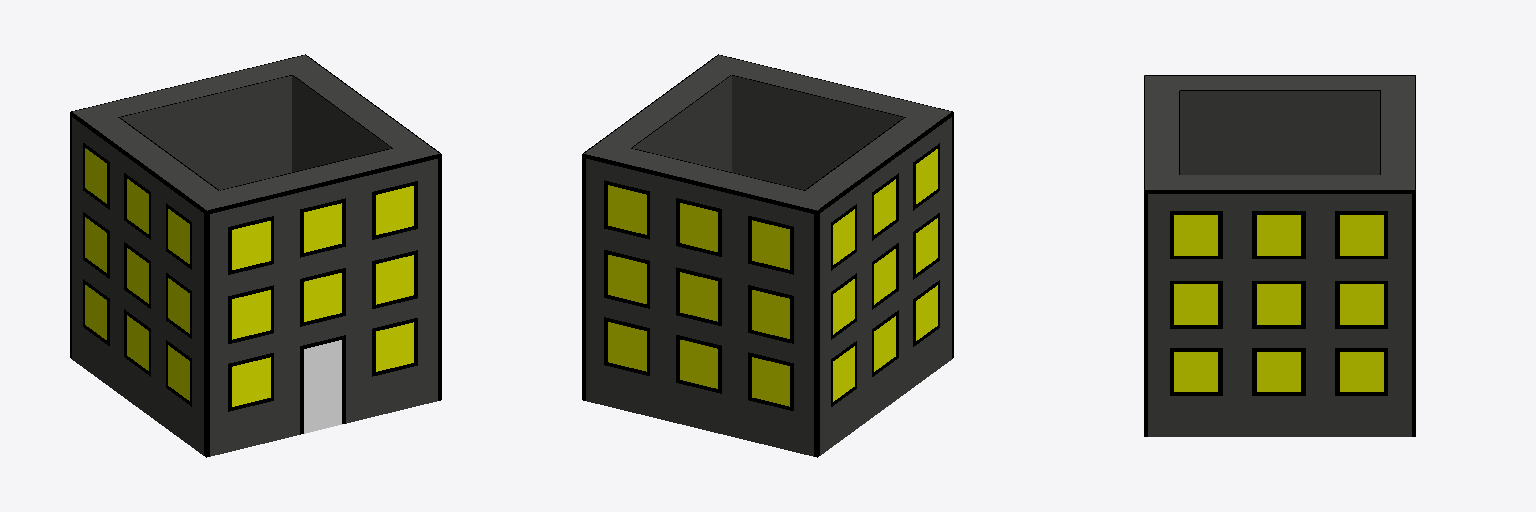
3 renders of one model, left to right at view 1: azimuth 30°, elevation 25°; view 2: azimuth 150°, elevation 25°; view 3: azimuth 270°, elevation 25°, orthographic.
Parts seen in each view (by area): view 1: cube1; view 2: cube1; view 3: cube1.
Boxes of the visible parts, box(x1,y1,x2,y2) form: cube1: box(70, 54, 441, 457); cube1: box(582, 54, 953, 457); cube1: box(1144, 75, 1415, 436).
Size of the model in its own units: 1 by 1 by 1.
Materials: 1 (1 with a texture image).